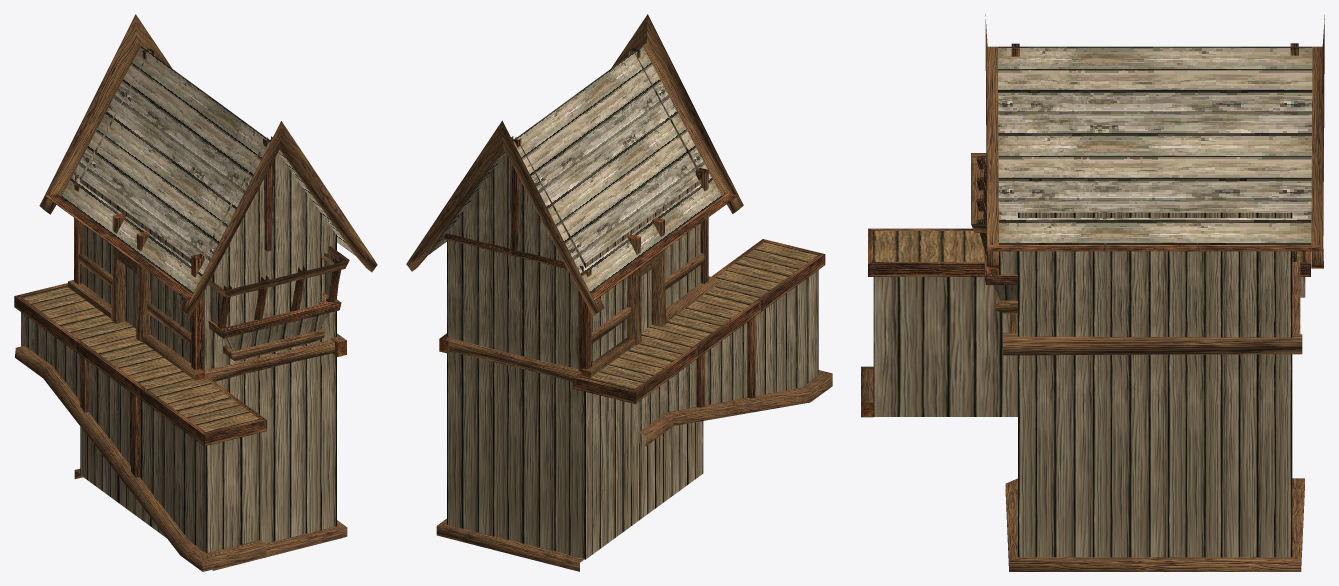
The model's file is LAKETOWN_EXTERIOR_PS_LT_FISHHOUSE756__GX.fbx.
The picture shows the model from 3 angles, left to right: view 1: azimuth 30°, elevation 25°; view 2: azimuth 150°, elevation 25°; view 3: azimuth 270°, elevation 25°; orthographic projection. The views are drawn at different scales.
Parts seen in each view (by area): view 1: LAKETOWN_EXTERIOR_PS_LT_FISHHOUSE756__GX; view 2: LAKETOWN_EXTERIOR_PS_LT_FISHHOUSE756__GX; view 3: LAKETOWN_EXTERIOR_PS_LT_FISHHOUSE756__GX.
Part boxes in pixels (<box>): LAKETOWN_EXTERIOR_PS_LT_FISHHOUSE756__GX: <box>14,14,377,571</box>; LAKETOWN_EXTERIOR_PS_LT_FISHHOUSE756__GX: <box>406,14,832,571</box>; LAKETOWN_EXTERIOR_PS_LT_FISHHOUSE756__GX: <box>861,14,1324,571</box>.
Size of the model in its own units: 74171 by 136930 by 111812.
7 materials, 7 textured.
